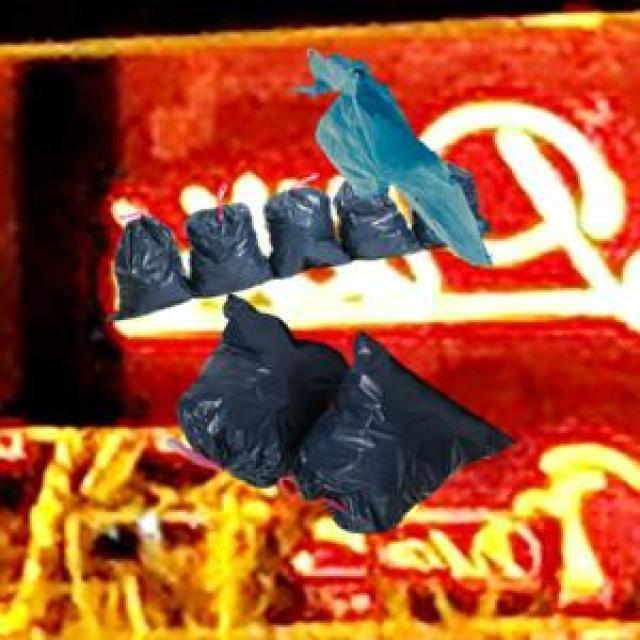miscellaneous trash: (162, 290, 512, 529), (102, 158, 489, 316)
